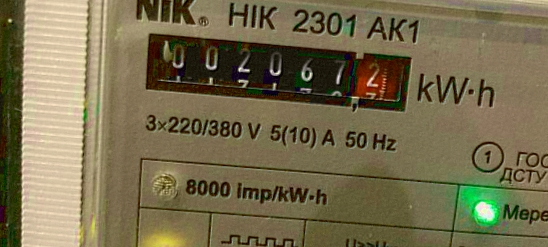0: (168, 41, 188, 71), (265, 47, 285, 77), (202, 42, 221, 72)
2: (363, 59, 383, 89), (235, 45, 254, 75)
6: (297, 53, 318, 84)
7: (330, 56, 348, 87)
screen: (129, 19, 427, 126)
